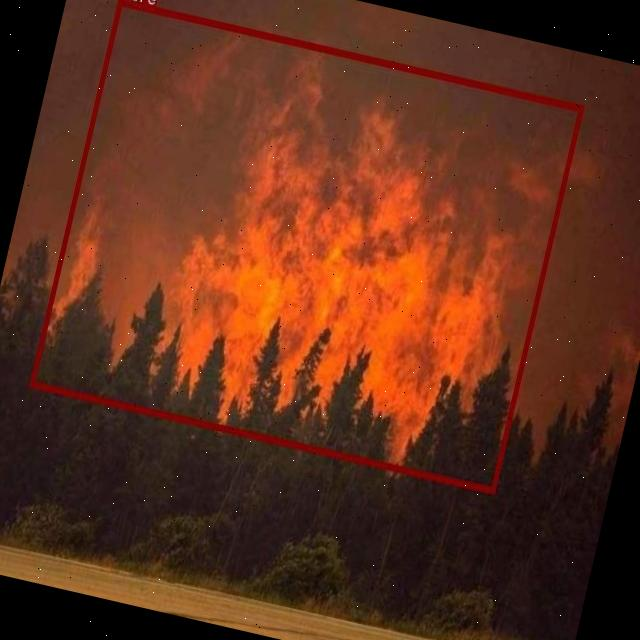fire: (28, 0, 582, 492)
